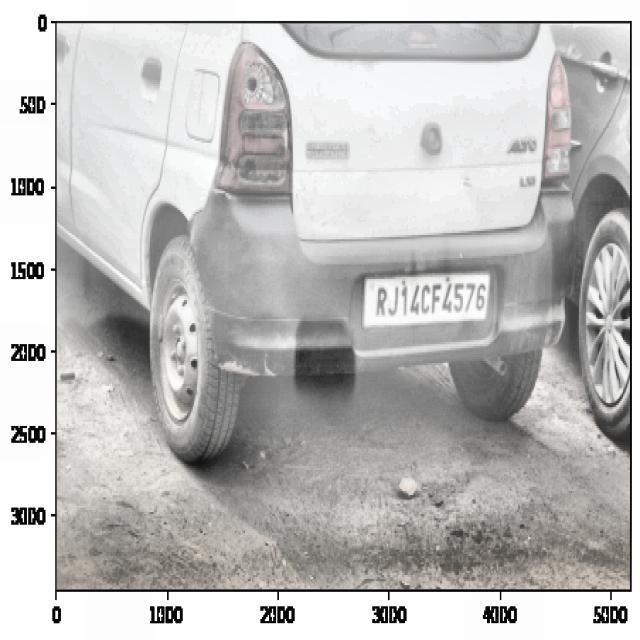license_plate: (371, 278, 489, 328)
